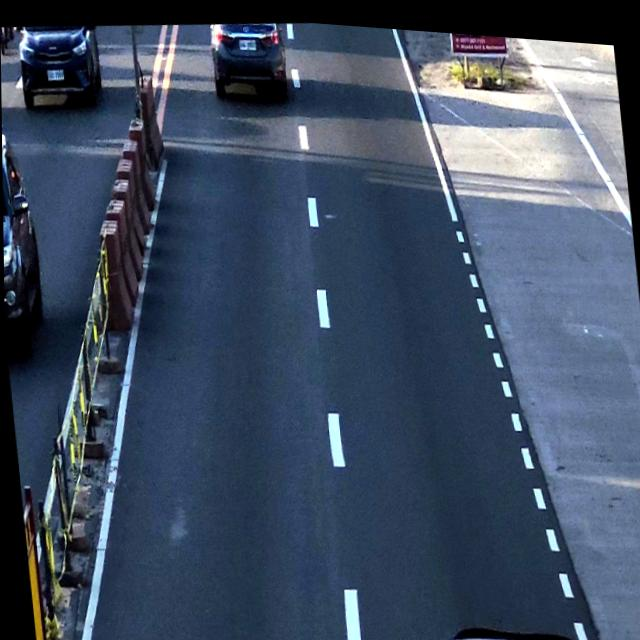Car: (210, 14, 288, 97)
Jeep: (417, 600, 605, 640)
License-Plate: (237, 30, 258, 51)
